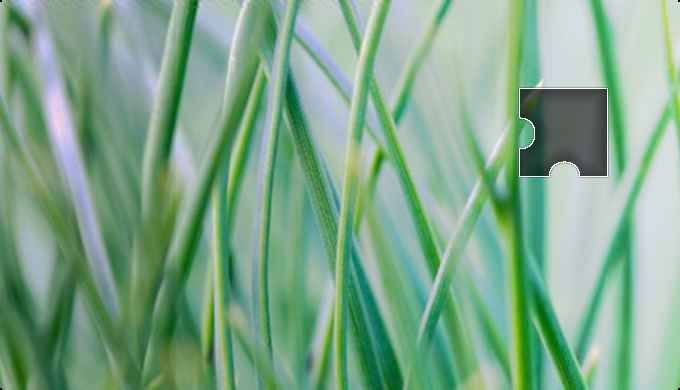gap: (519, 90, 610, 176)
